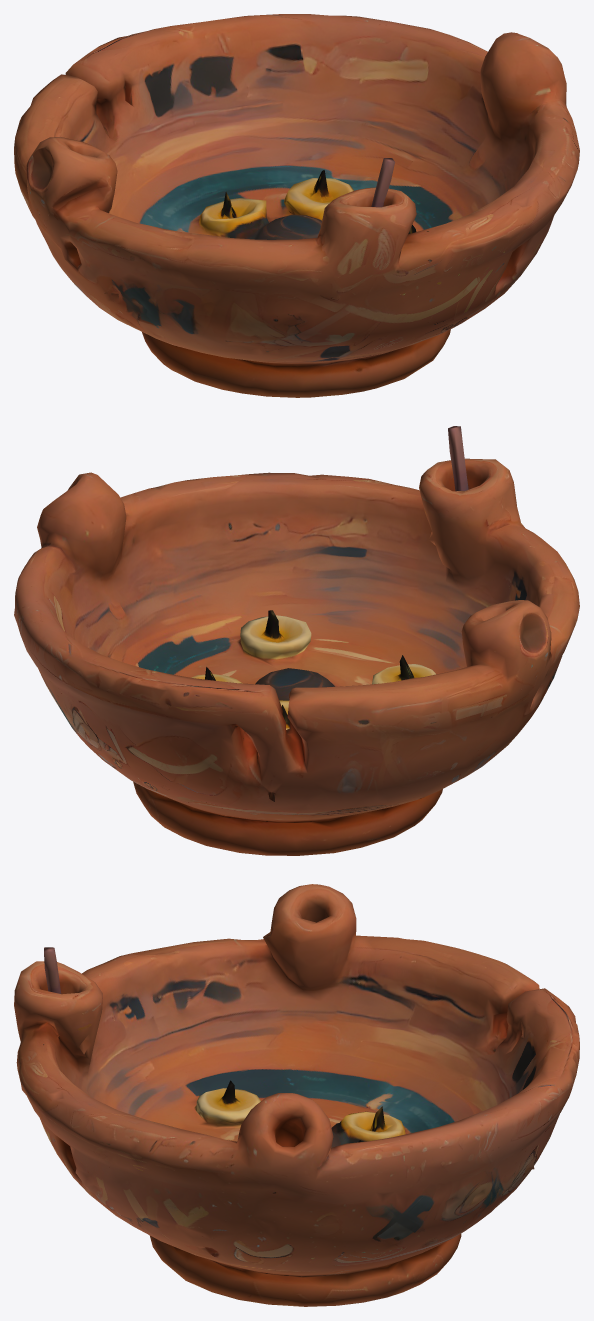
The model's file is lamp-model.glb.
The picture shows the model from 3 angles, top to bottom: view 1: azimuth 30°, elevation 25°; view 2: azimuth 150°, elevation 25°; view 3: azimuth 270°, elevation 25°; orthographic projection.
Visible parts, largest first — view 1: tripo_node_7e73ec77-e26f-444d-bd9e-5a51641c50f7; view 2: tripo_node_7e73ec77-e26f-444d-bd9e-5a51641c50f7; view 3: tripo_node_7e73ec77-e26f-444d-bd9e-5a51641c50f7.
Boxes of the visible parts, bbox=[...] form: tripo_node_7e73ec77-e26f-444d-bd9e-5a51641c50f7: bbox=[14, 14, 579, 397]; tripo_node_7e73ec77-e26f-444d-bd9e-5a51641c50f7: bbox=[14, 426, 579, 855]; tripo_node_7e73ec77-e26f-444d-bd9e-5a51641c50f7: bbox=[14, 884, 579, 1306].
Size of the model in its own units: 0.9994 by 0.5325 by 0.9778.
1 material, 1 textured.
